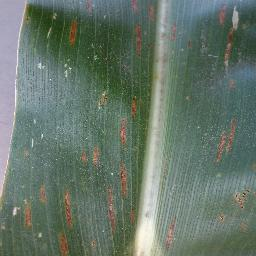Gray_Leaf_Spot: (215, 0, 243, 91), (212, 113, 240, 166), (57, 189, 78, 256), (41, 4, 59, 46), (103, 183, 118, 231), (163, 212, 180, 252), (128, 0, 156, 22), (118, 157, 132, 200), (80, 143, 103, 169), (233, 186, 253, 213), (131, 23, 144, 62), (20, 199, 35, 232), (93, 88, 113, 112), (18, 0, 32, 31), (67, 15, 80, 48), (162, 18, 180, 39), (126, 91, 141, 116), (118, 117, 130, 148), (61, 60, 77, 79), (36, 181, 49, 204), (82, 0, 100, 16), (128, 201, 137, 230), (86, 237, 101, 252), (7, 205, 22, 219), (211, 213, 226, 225), (34, 59, 48, 71), (186, 35, 193, 51), (239, 223, 248, 232)
